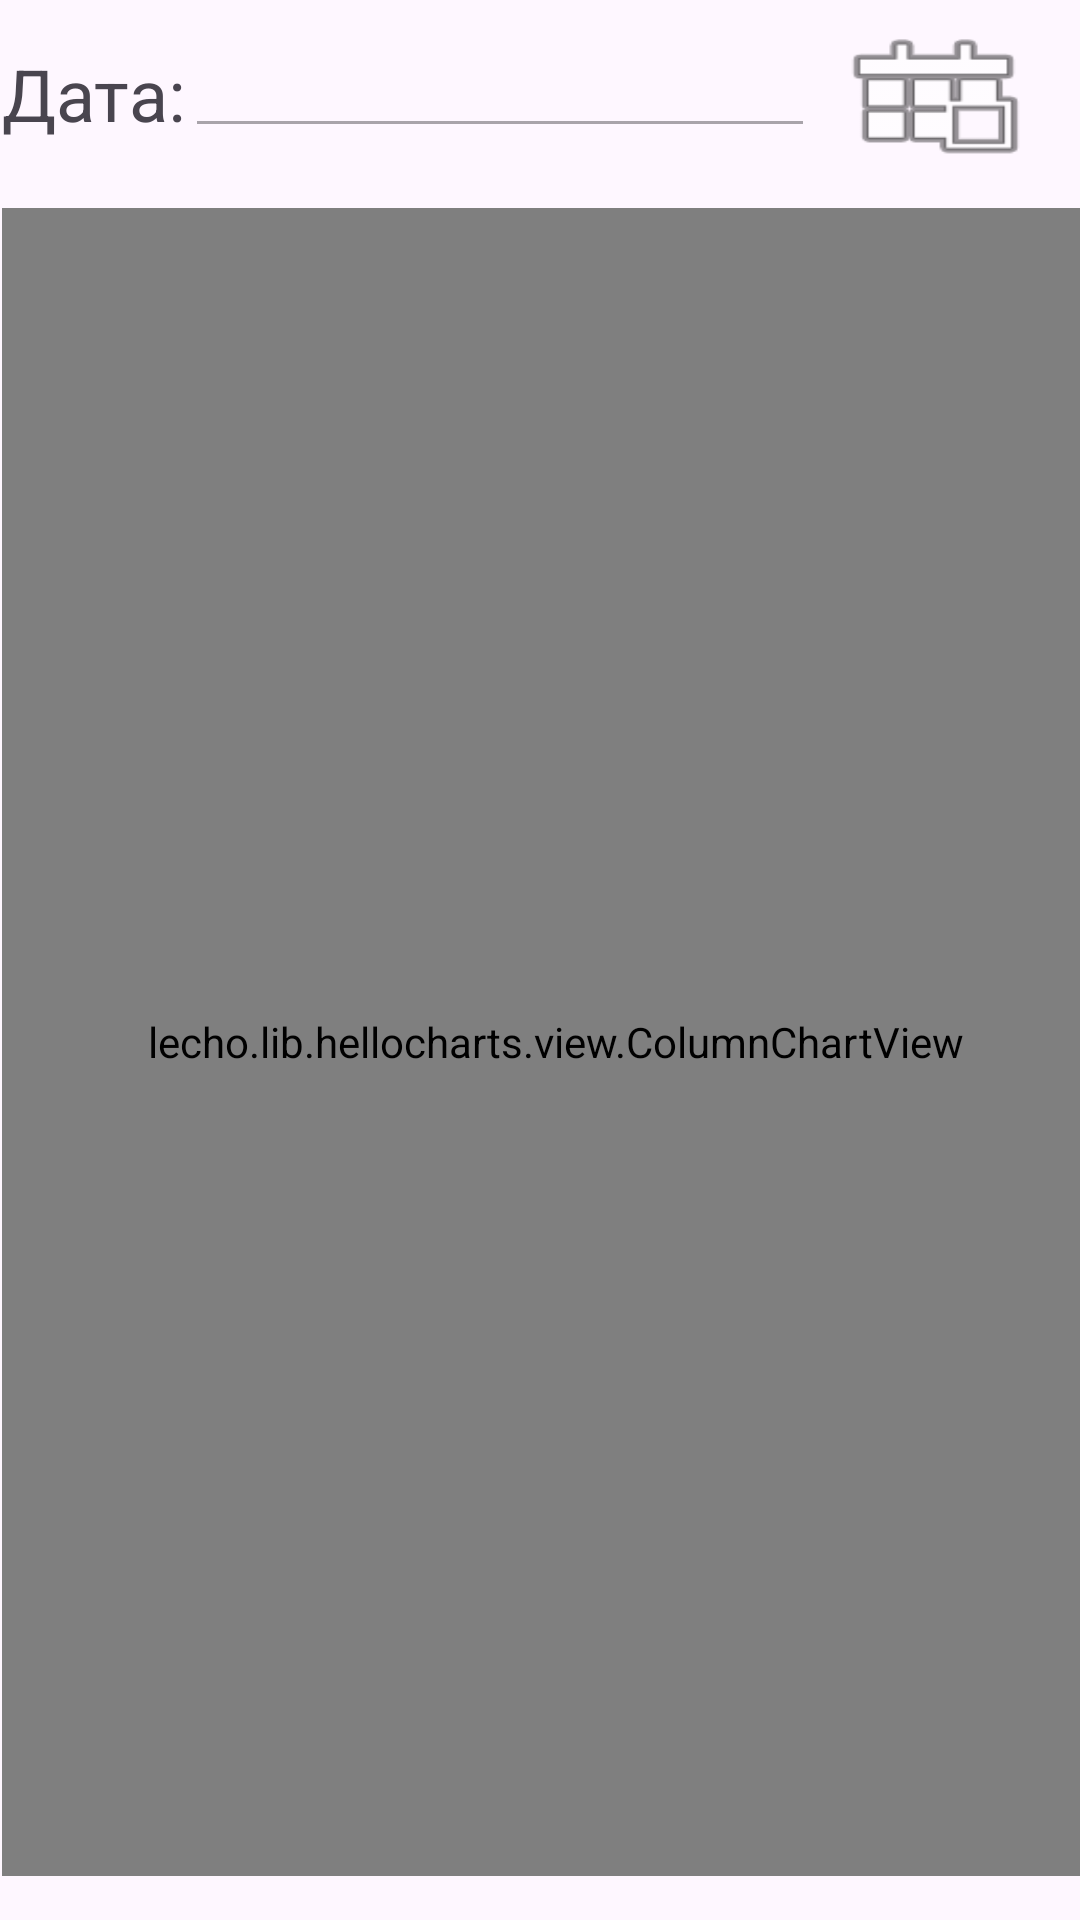

Icons on this 1080px×1920px Android screen, each with the point to tap as (x,y):
today: (935,96)
